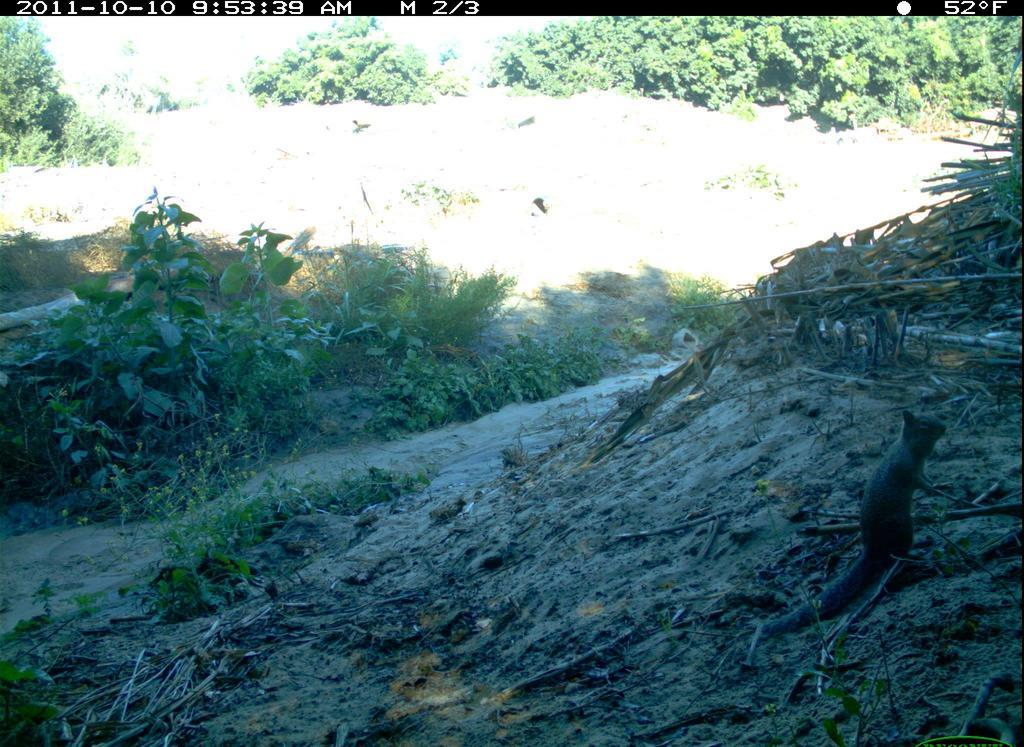squirrel: (729, 396, 967, 639)
